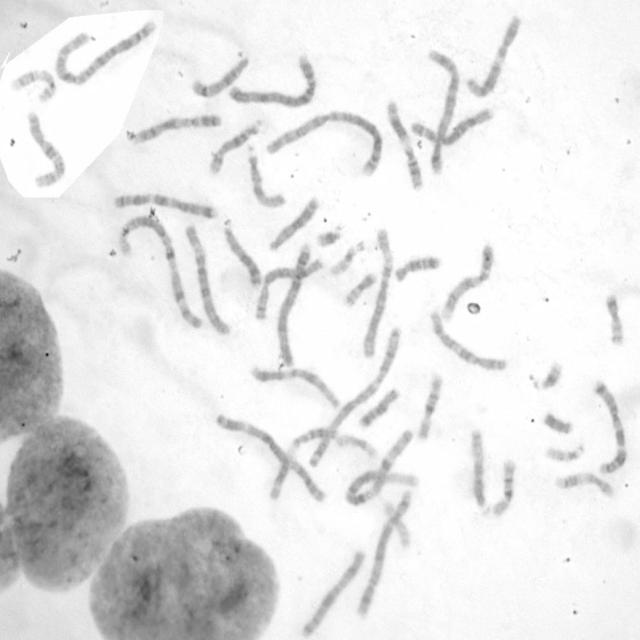A1: (115, 213, 207, 331), (344, 424, 416, 508)
A2: (262, 108, 384, 180), (51, 16, 159, 86)
A3: (304, 322, 404, 467), (212, 411, 329, 505)
B4: (273, 241, 315, 368), (225, 51, 318, 108)
B5: (354, 484, 416, 621), (424, 47, 462, 175)
C10: (426, 307, 510, 374), (24, 109, 67, 190)
C11: (269, 426, 331, 503), (382, 96, 425, 193)
C12: (462, 10, 523, 99), (246, 362, 344, 411)
C6: (182, 222, 232, 337), (358, 223, 396, 361)
C7: (590, 377, 628, 477), (111, 190, 219, 221)
C8: (252, 254, 324, 322), (409, 104, 497, 147)
C9: (438, 240, 495, 322), (130, 111, 223, 146)
D13: (266, 193, 320, 252), (220, 217, 263, 288)
D14: (207, 117, 264, 176), (188, 52, 251, 99)
D15: (246, 146, 287, 208), (468, 425, 490, 512)
E16: (414, 370, 444, 442), (489, 456, 517, 518)
E17: (552, 470, 616, 499), (9, 66, 56, 103)
E18: (356, 386, 401, 430), (392, 251, 442, 284)
F19: (380, 496, 412, 549), (334, 432, 379, 461)
F20: (342, 268, 378, 308), (602, 289, 626, 347)
G21: (526, 358, 564, 392), (313, 220, 345, 249)
G22: (327, 240, 361, 278), (541, 441, 587, 463)
X: (297, 546, 368, 637)
Y: (540, 409, 574, 435)
